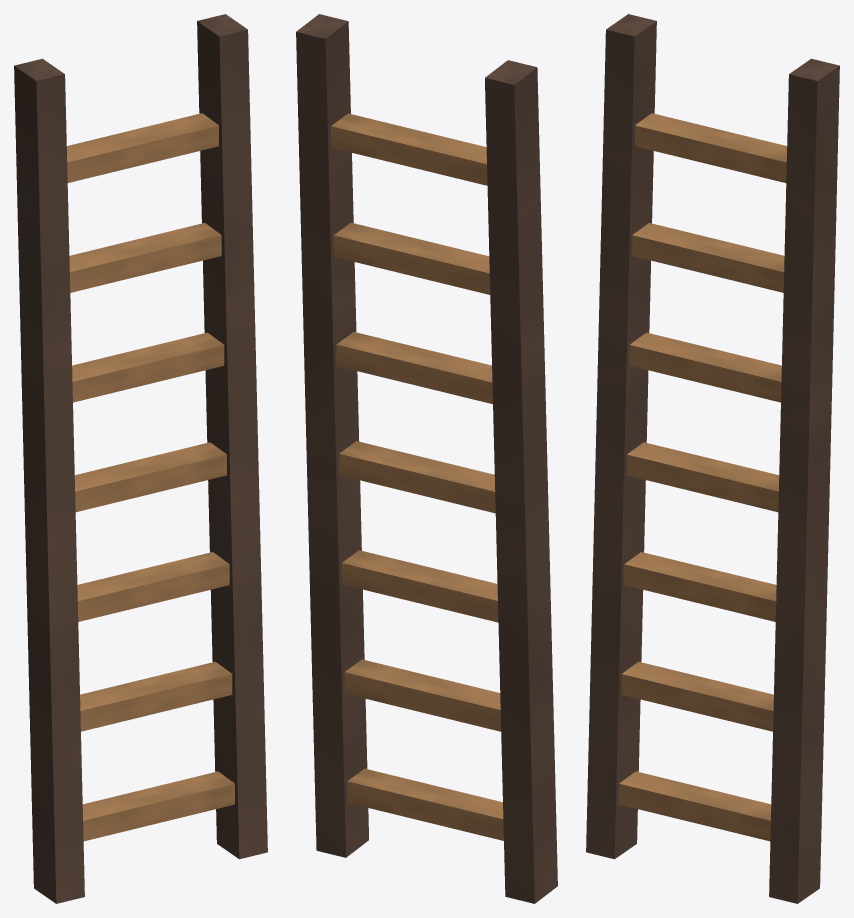
File: ladder_wood.fbx
3 views of the same model, side by side, from view 1: azimuth 30°, elevation 25°; view 2: azimuth 150°, elevation 25°; view 3: azimuth 330°, elevation 25° (orthographic). The views are drawn at different scales.
Parts seen in each view (by area): view 1: ladder_wood; view 2: ladder_wood; view 3: ladder_wood.
Part boxes in pixels (left/top/right/bottom): ladder_wood: left=14, top=14, right=267, bottom=903; ladder_wood: left=296, top=14, right=557, bottom=903; ladder_wood: left=586, top=14, right=839, bottom=903.
Bounding box in the file's own units: 52 × 190 × 18.
1 material, 1 textured.
